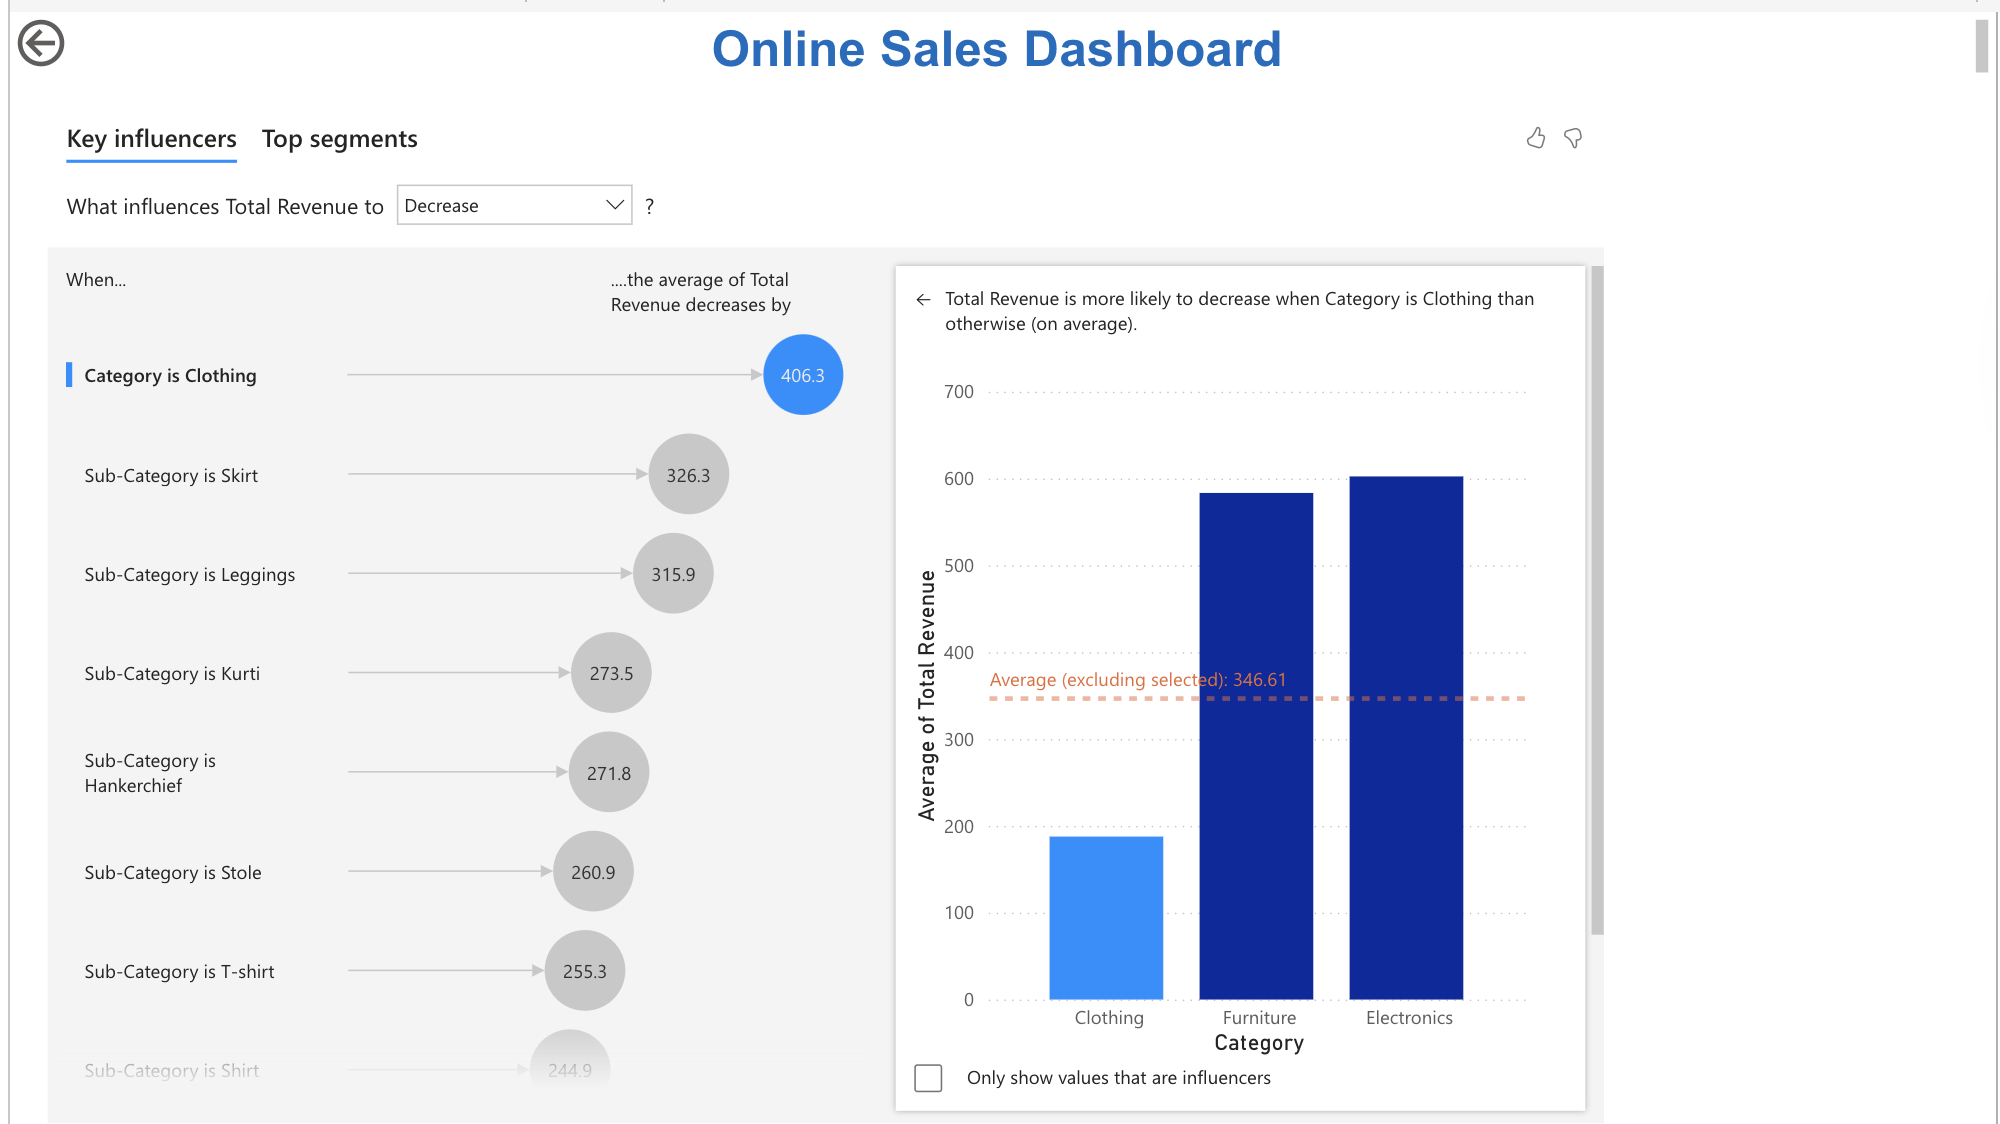

What the dashboard file says about the page in this screenshot:
{"tool":"powerbi","page":{"name":"Key Influencer","canvas":[1280,720],"ordinal":2},"visuals":[{"type":"keyDriversVisual","fields":{"ExplainBy":["Details.Category","Details.Sub-Category","Sum(Details.Quantity)","Details.Order ID","Orders.City","Orders.Order Date","Orders.State"],"Target":["Details.Total Revenue"]},"box":[19.7,56.1,1013.1,664.3],"z":0},{"type":"textbox","box":[0,0,1280,45.4],"z":1000},{"type":"actionButton","box":[0,0,100,40],"z":2000}]}

Visuals, with their boxes on the page's 1280x720 design canvas (x1, y1, x2, y2). These are canvas units, not pixel positions in the 2000x1124 screenshot, which may show the page scaled, cropped or inside an application window:
keyDriversVisual - Details.Category x Details.Sub-Category: (left=20, top=56, right=1033, bottom=720)
textbox: (left=0, top=0, right=1280, bottom=45)
actionButton: (left=0, top=0, right=100, bottom=40)
